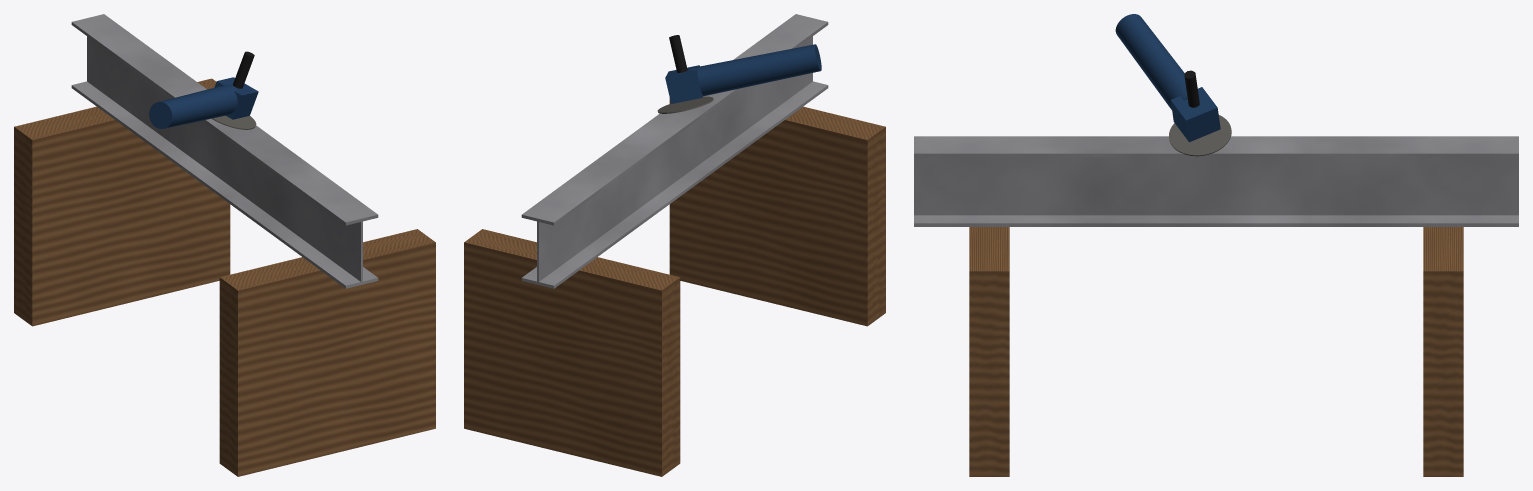
The model's file is grinder_L2.glb.
3 views of the same model, side by side, from view 1: azimuth 30°, elevation 25°; view 2: azimuth 150°, elevation 25°; view 3: azimuth 270°, elevation 25° (orthographic). The views are drawn at different scales.
Parts seen in each view (by area): view 1: trestle (×2), beam, motor, head; view 2: trestle (×2), beam, motor, head, disc; view 3: beam, trestle (×2), motor, head, disc.
Part boxes in pixels (x1,y1,x2,y2): trestle (×2): (14, 78, 435, 476); beam: (71, 14, 378, 288); motor: (149, 84, 237, 128); head: (214, 77, 258, 119); trestle (×2): (464, 98, 885, 476); beam: (521, 14, 828, 288); motor: (690, 44, 821, 96); head: (665, 65, 702, 103); disc: (657, 96, 713, 113); beam: (914, 136, 1518, 226); trestle (×2): (969, 227, 1463, 476); motor: (1115, 14, 1187, 109); head: (1170, 87, 1220, 142); disc: (1169, 115, 1231, 156).
Bounding box in the file's own units: 0.5272 × 0.7829 × 1.2.
5 materials, 2 textured.
